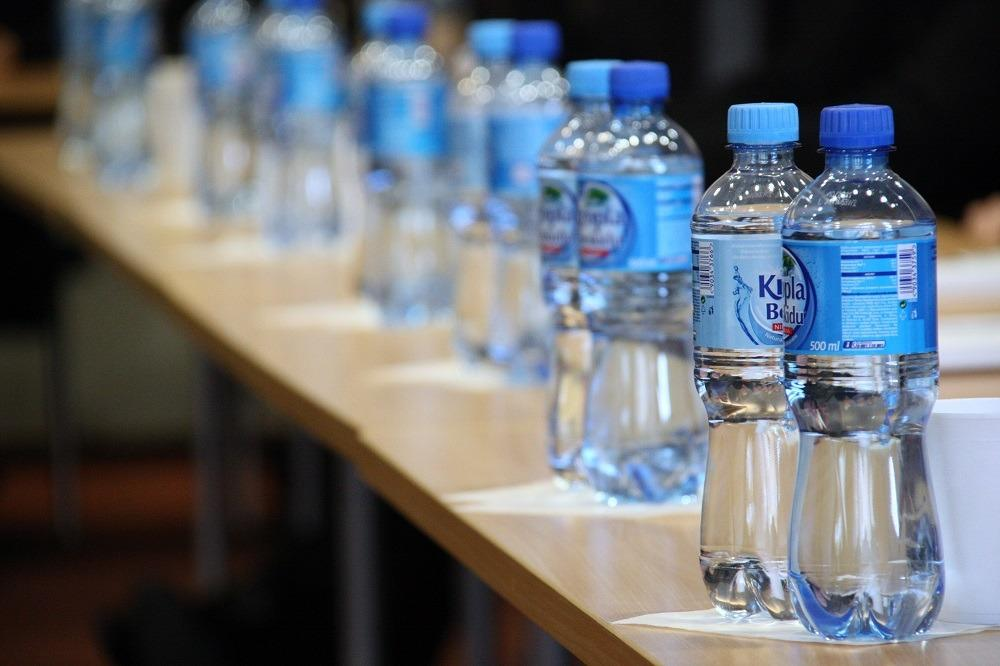plastic_bottle: (780, 100, 954, 647), (689, 99, 829, 616), (579, 62, 720, 507), (546, 59, 622, 476), (484, 23, 573, 369), (355, 2, 450, 312), (264, 1, 340, 246), (72, 1, 161, 177), (192, 2, 252, 218)
